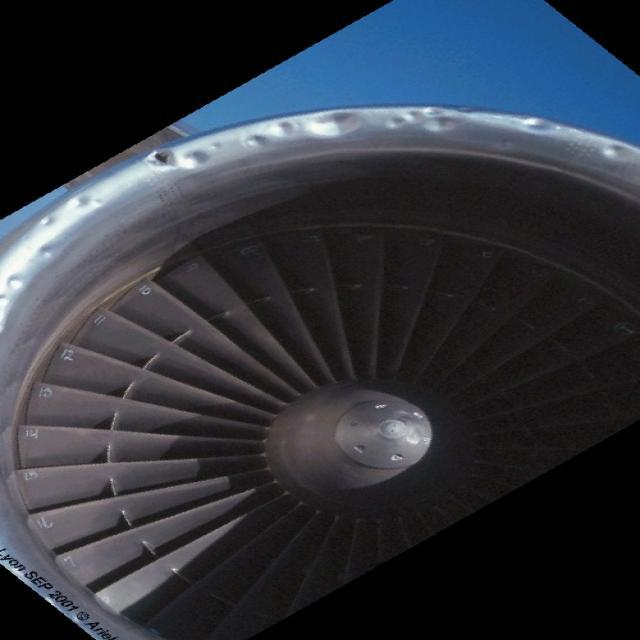dent: (239, 100, 486, 141)
